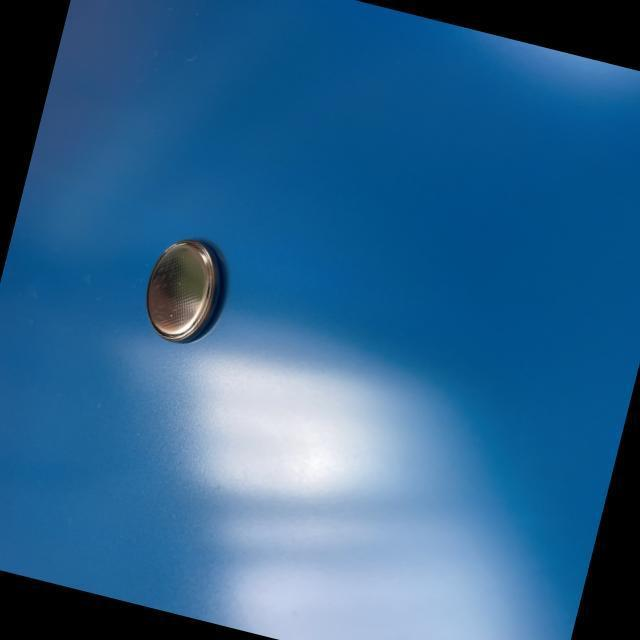COIN: (133, 228, 236, 350)
